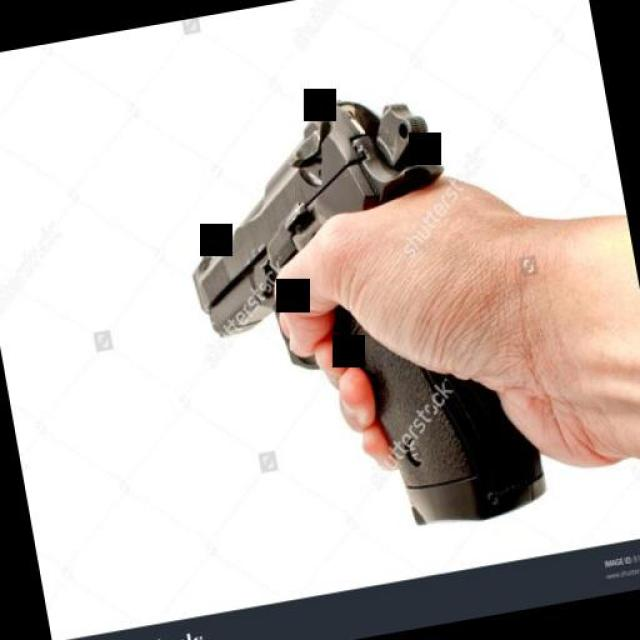gun: (162, 68, 548, 552)
